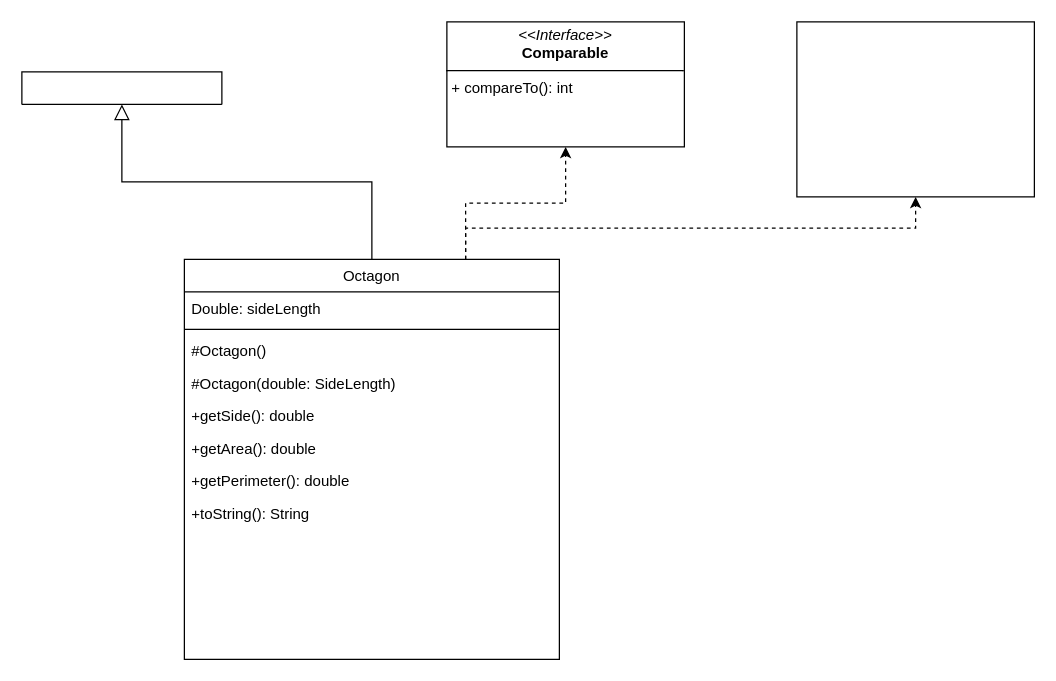
Image size: 1056x681. Some labels were removed from this diagram. The centre of each missing label's shape, as x and y in pixels:
<<Interface>> Cloneable + Clone(): Object: the point at 915,109
GeometricObject: the point at 121,87
